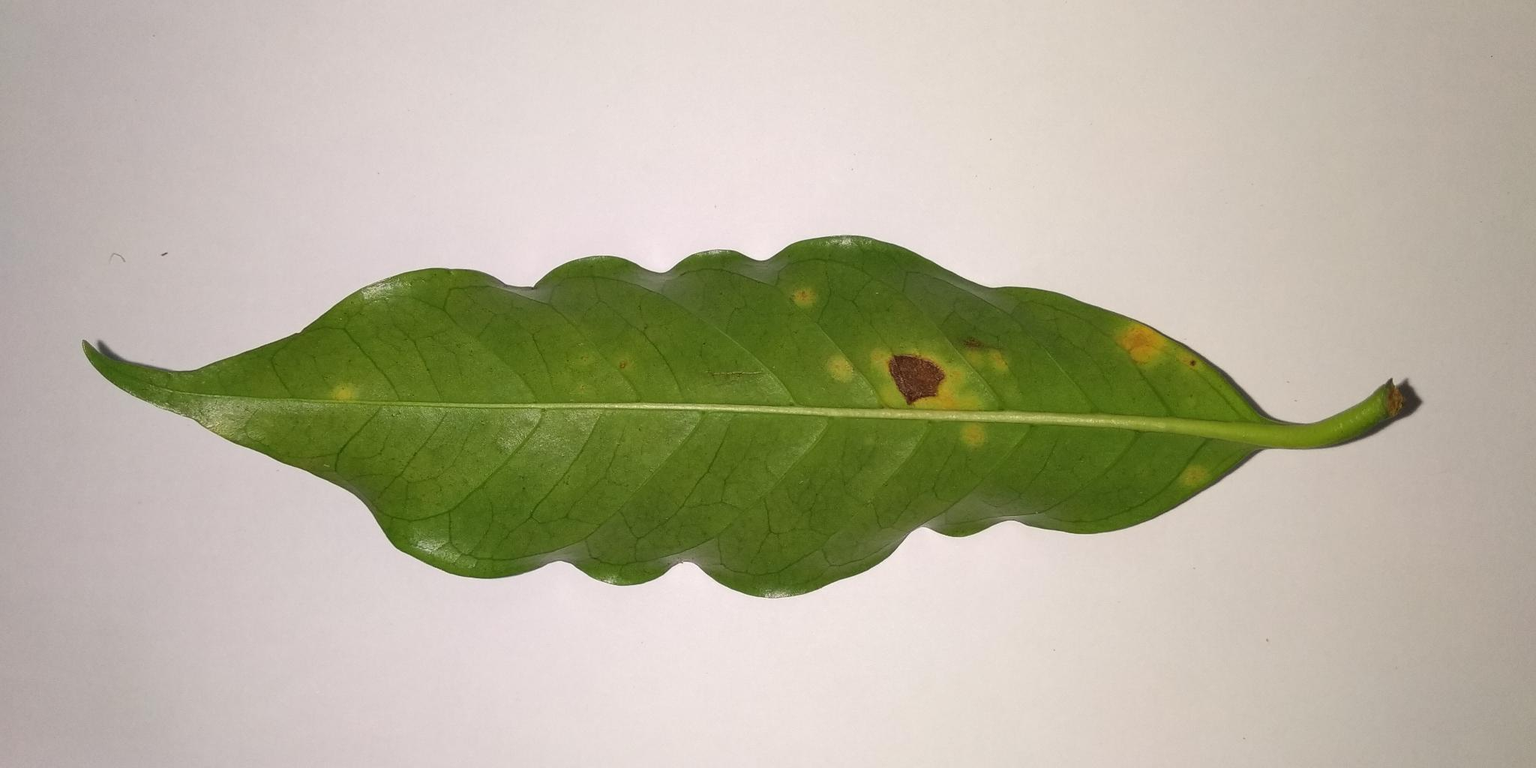Rust: (1096, 306, 1199, 381)
